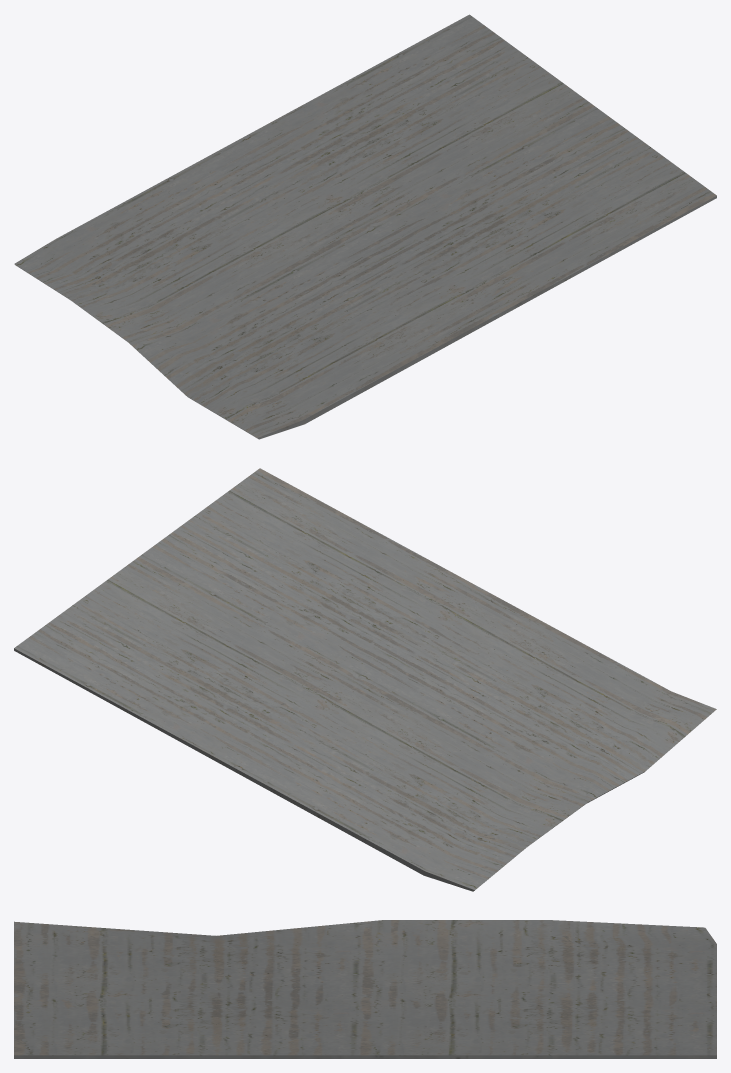
The model's file is Kit_MetalRoof.fbx.
3 views of the same model, one above another, from view 1: azimuth 30°, elevation 25°; view 2: azimuth 150°, elevation 25°; view 3: azimuth 270°, elevation 25° (orthographic). The views are drawn at different scales.
Visible parts, largest first — view 1: Kit_MetalRoof; view 2: Kit_MetalRoof; view 3: Kit_MetalRoof.
Boxes of the visible parts, left/top/right/bottom form: Kit_MetalRoof: left=14, top=14, right=716, bottom=439; Kit_MetalRoof: left=14, top=468, right=716, bottom=891; Kit_MetalRoof: left=14, top=920, right=716, bottom=1058.
Size of the model in its own units: 178 by 52.67 by 166.
